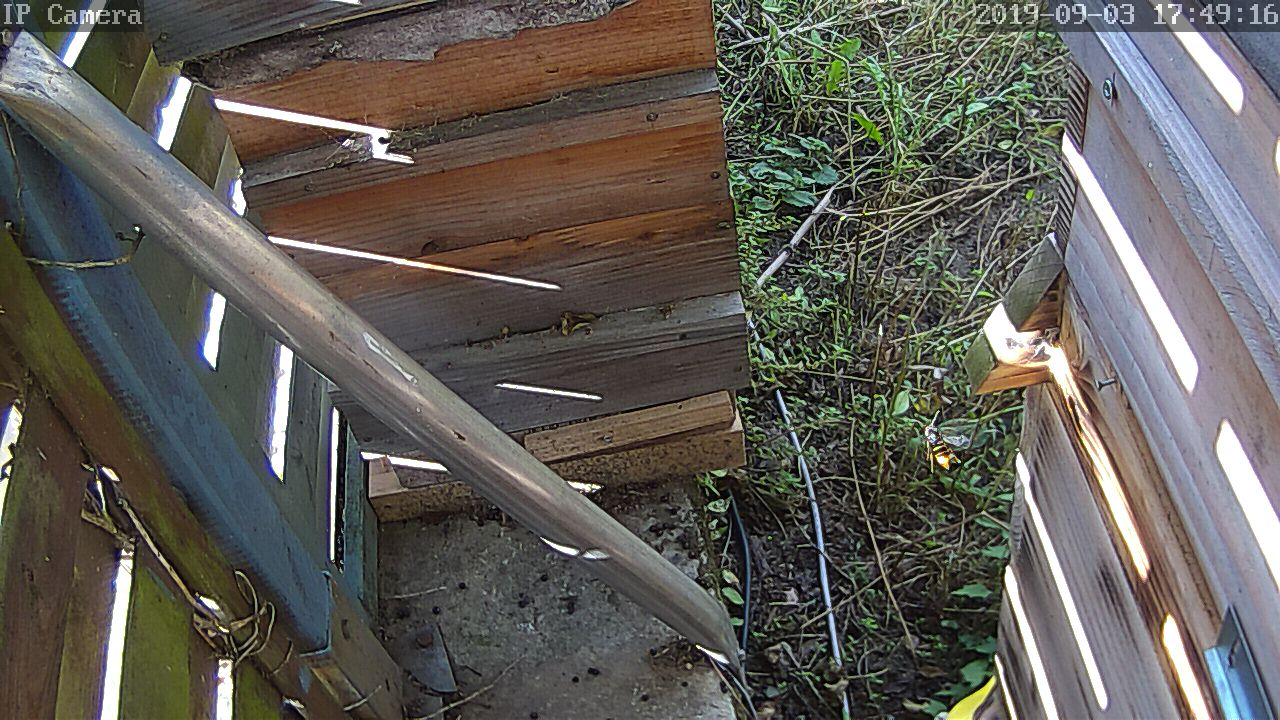hornet: (915, 418, 960, 473)
